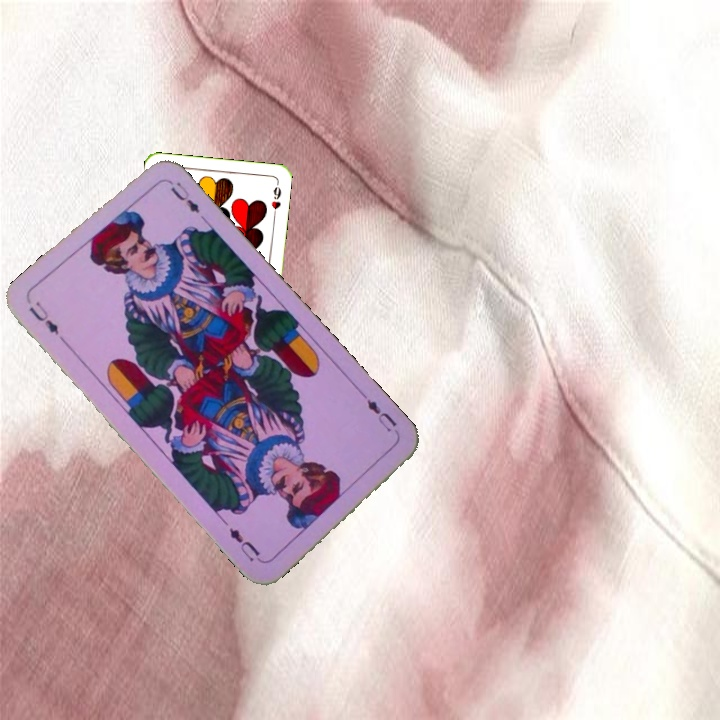EU: (362, 395, 402, 438), (25, 297, 62, 338)
